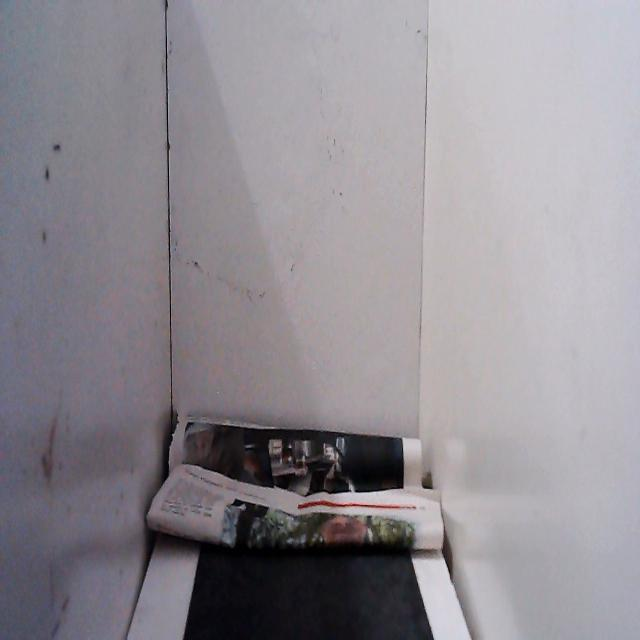papel: (142, 400, 448, 568)
